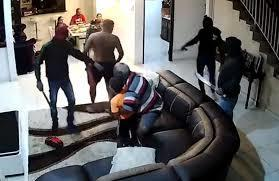weapon: (192, 69, 227, 98), (37, 83, 52, 111), (176, 45, 189, 53)
